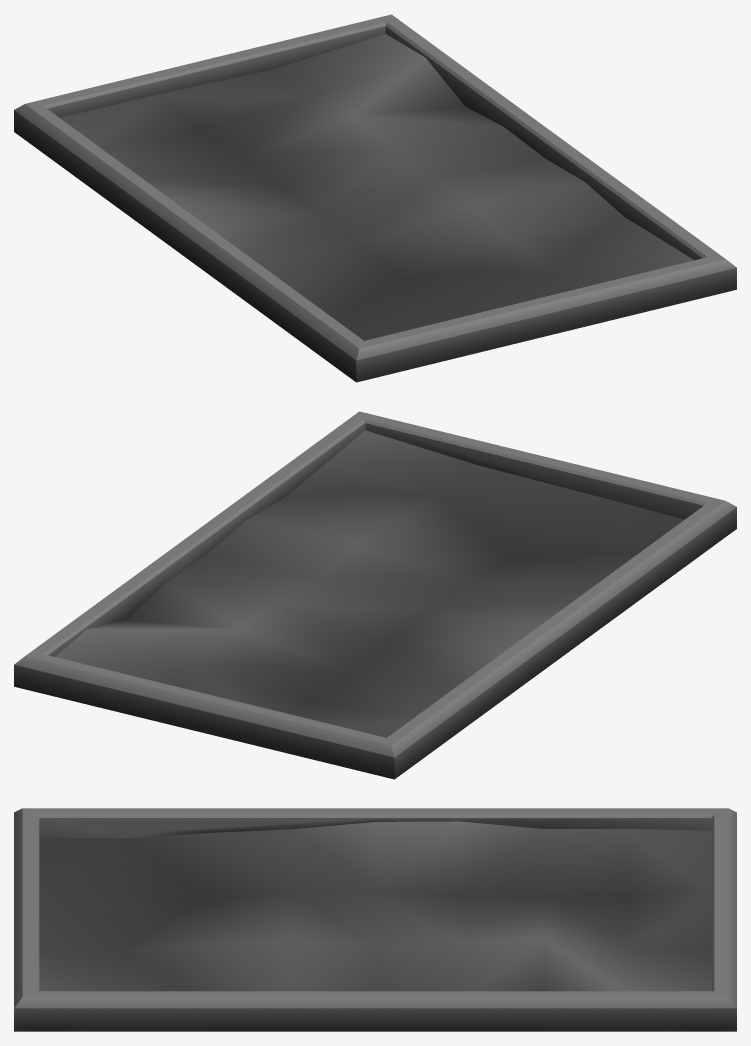
File: FarmPlotSmall1_MESH_01.fbx
The picture shows the model from 3 angles, top to bottom: view 1: azimuth 30°, elevation 25°; view 2: azimuth 150°, elevation 25°; view 3: azimuth 270°, elevation 25°; orthographic projection. The views are drawn at different scales.
Visible parts, largest first — view 1: FarmPlotSmall1_MESH_01; view 2: FarmPlotSmall1_MESH_01; view 3: FarmPlotSmall1_MESH_01.
Boxes of the visible parts, x1,y1,x2,y2 form: FarmPlotSmall1_MESH_01: [14, 14, 736, 382]; FarmPlotSmall1_MESH_01: [14, 411, 736, 779]; FarmPlotSmall1_MESH_01: [14, 808, 736, 1031].
Size of the model in its own units: 786 by 57.78 by 1224.
